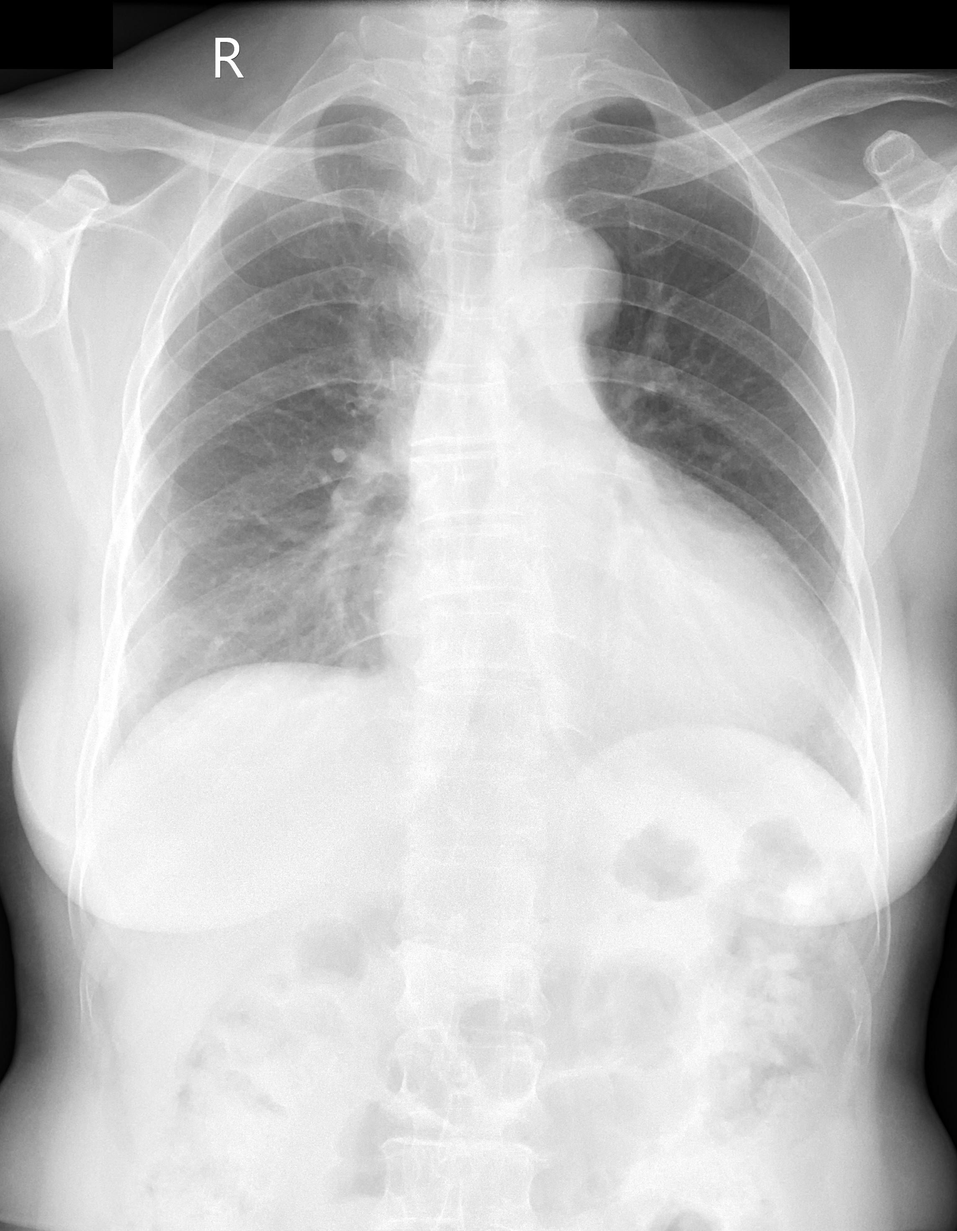Aortic enlargement: (492, 216, 623, 359)
Cardiomegaly: (374, 538, 825, 740)
